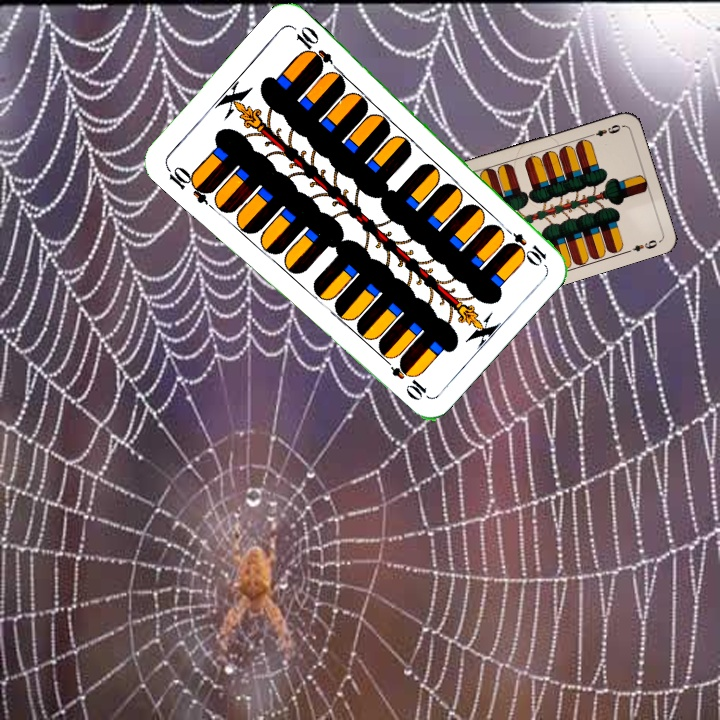E10: (497, 222, 549, 268), (162, 162, 215, 206)
E9: (585, 120, 625, 140)
